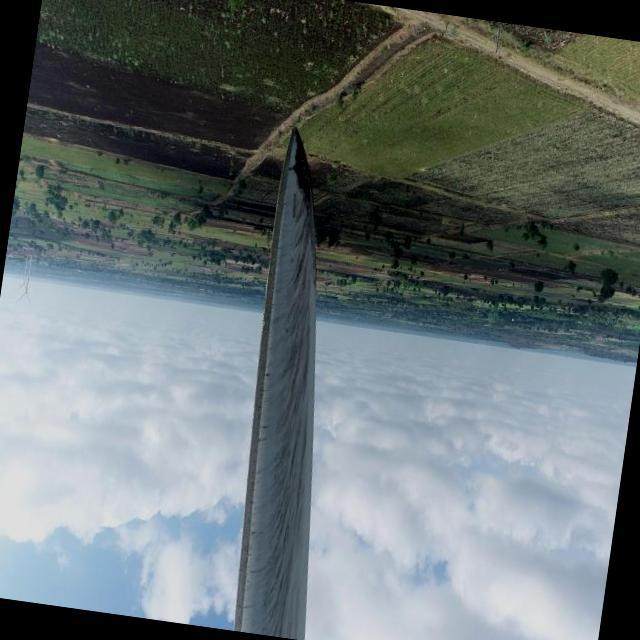Dirt: (235, 129, 317, 640)
Oil LEAKAGE: (296, 135, 315, 212)
Pin Hole: (289, 163, 298, 176)
